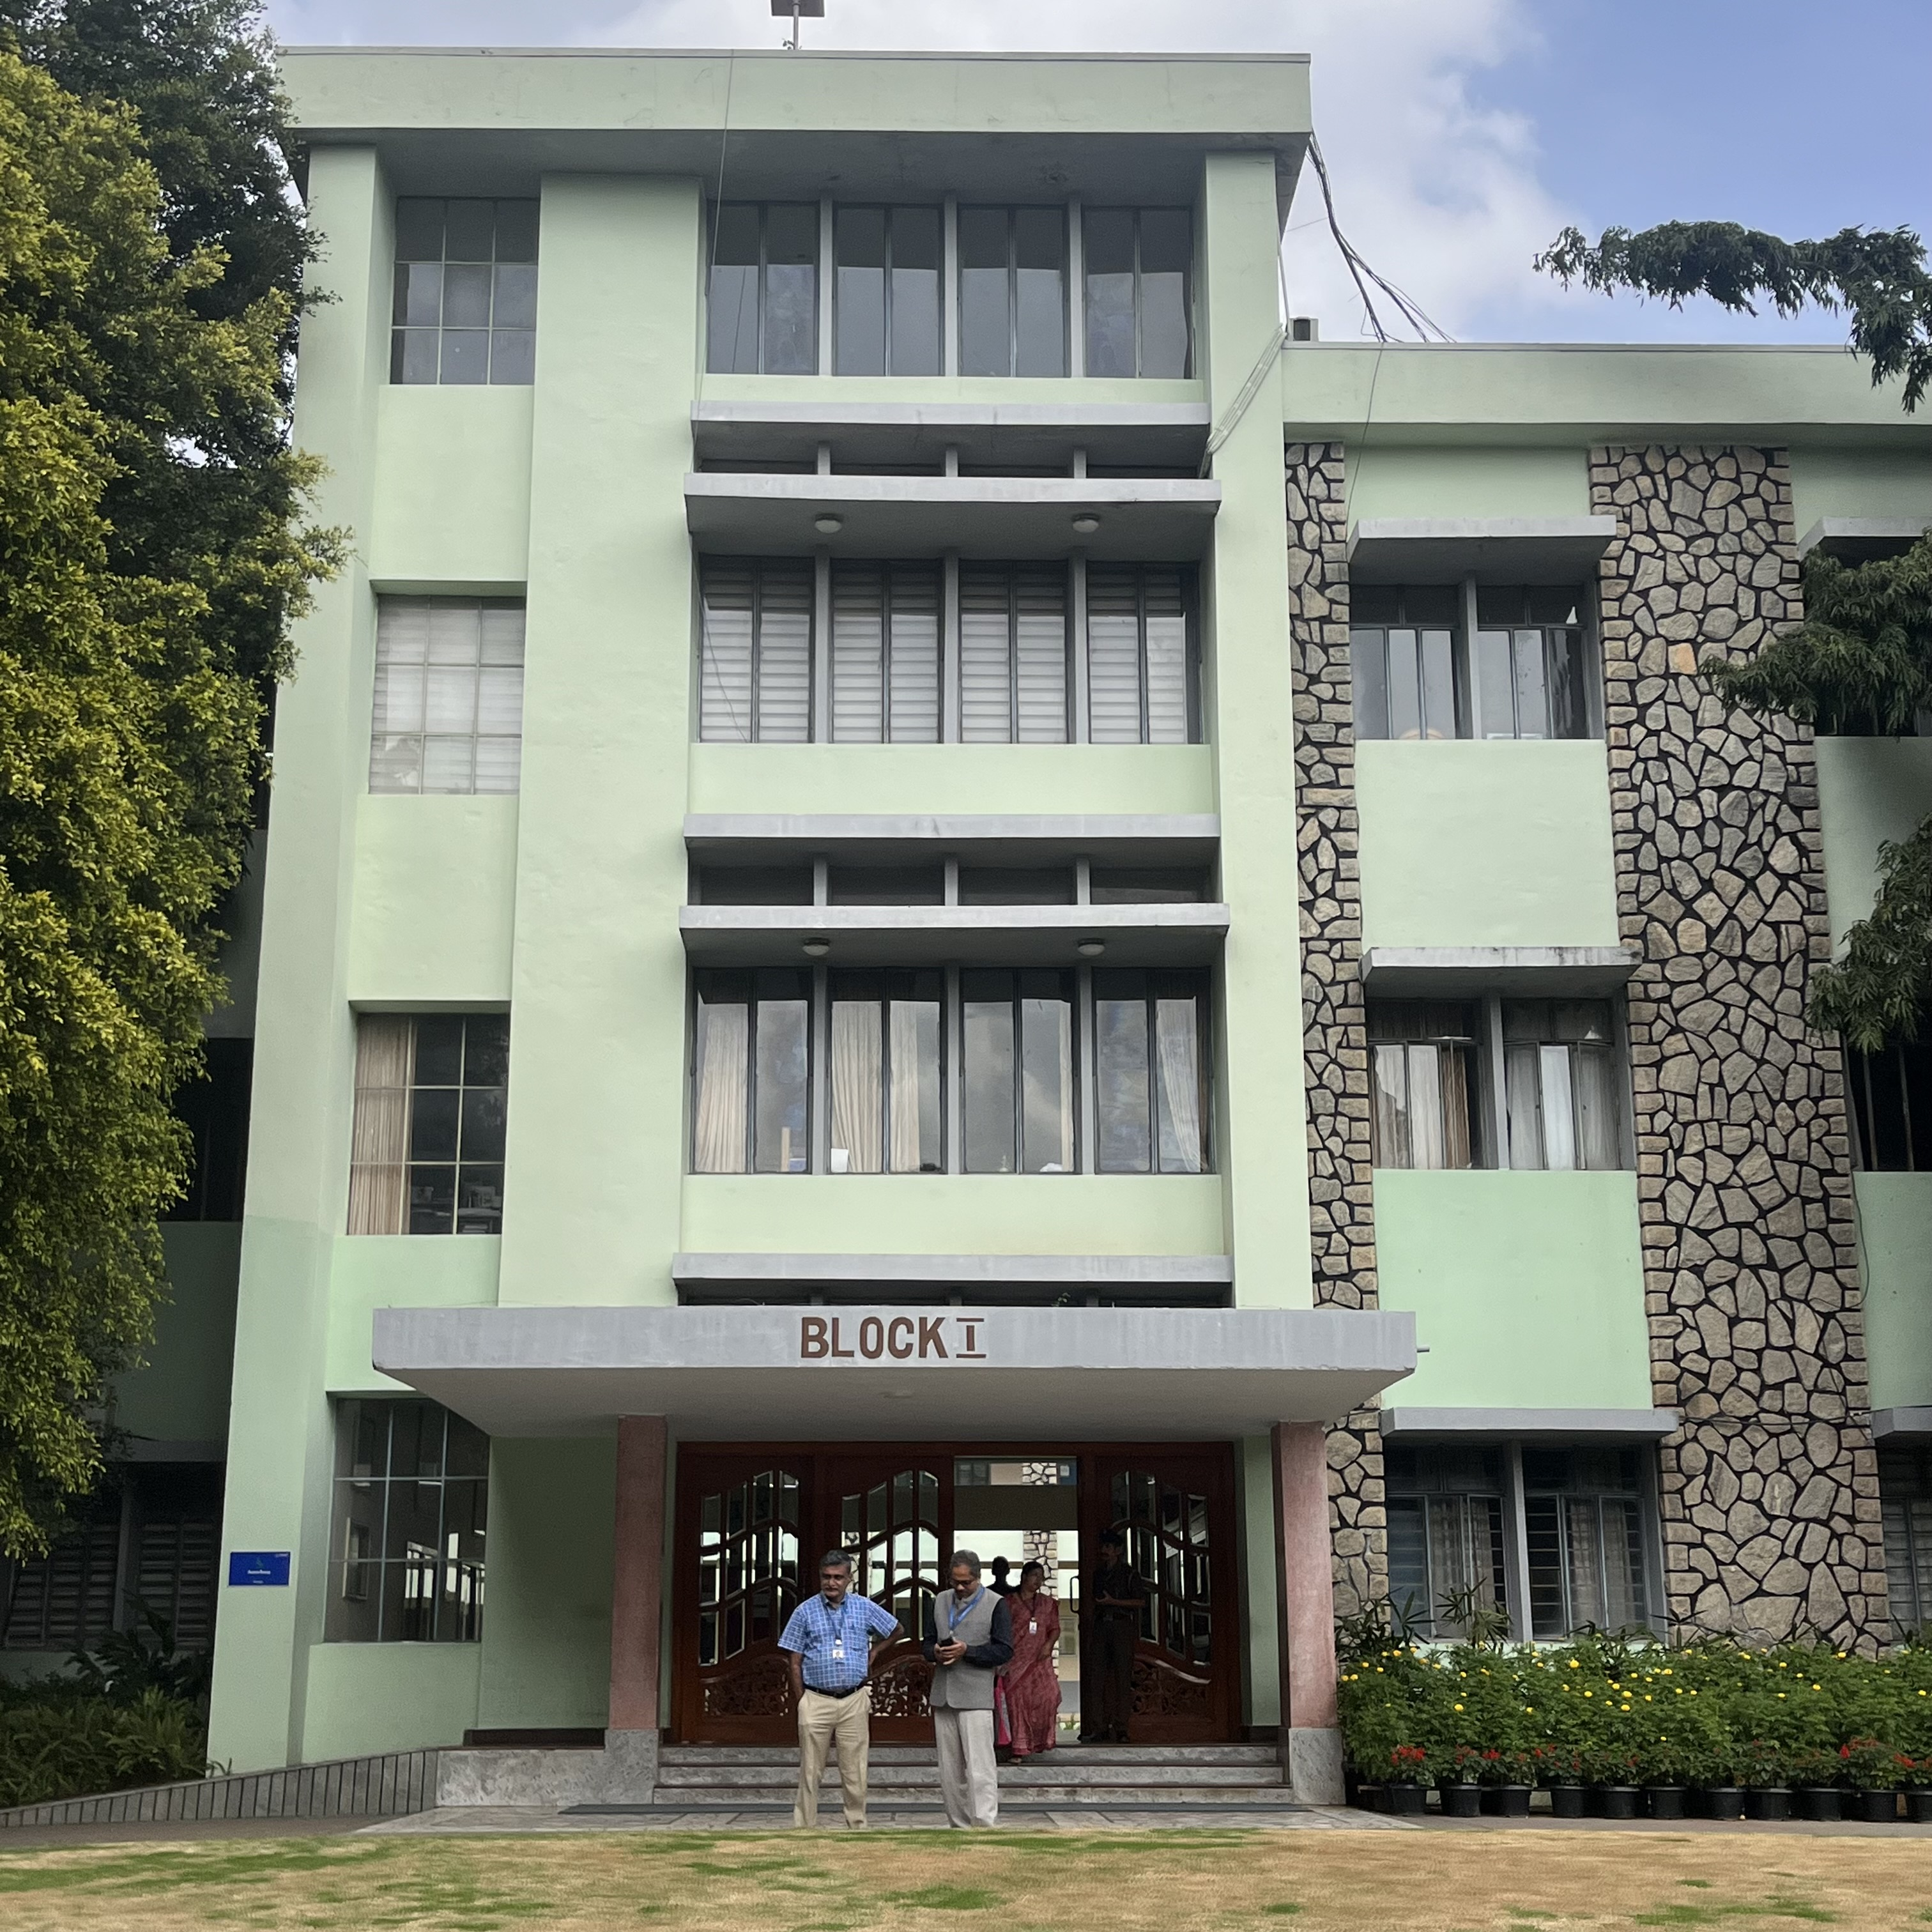Block 1: (269, 42, 1836, 1817)
